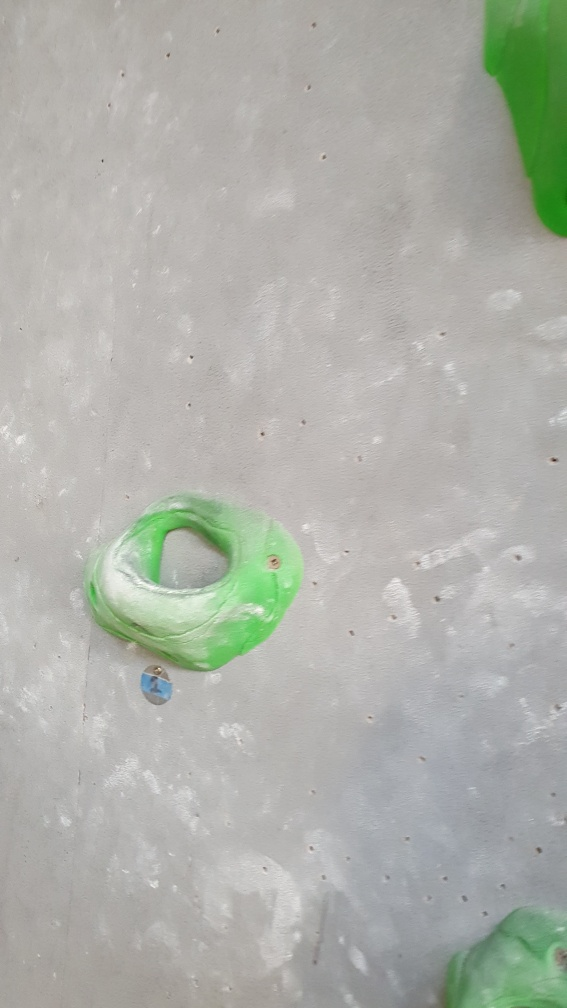Hand Start: (135, 659, 175, 710)
Pocket: (78, 487, 311, 674)
